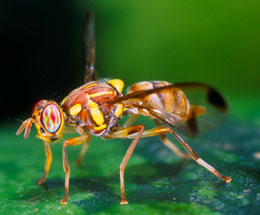Fruit fly: (26, 65, 224, 198)
